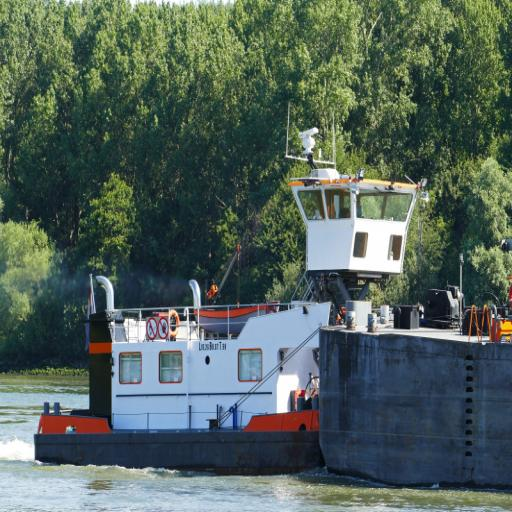tugboat: (31, 100, 483, 488)
